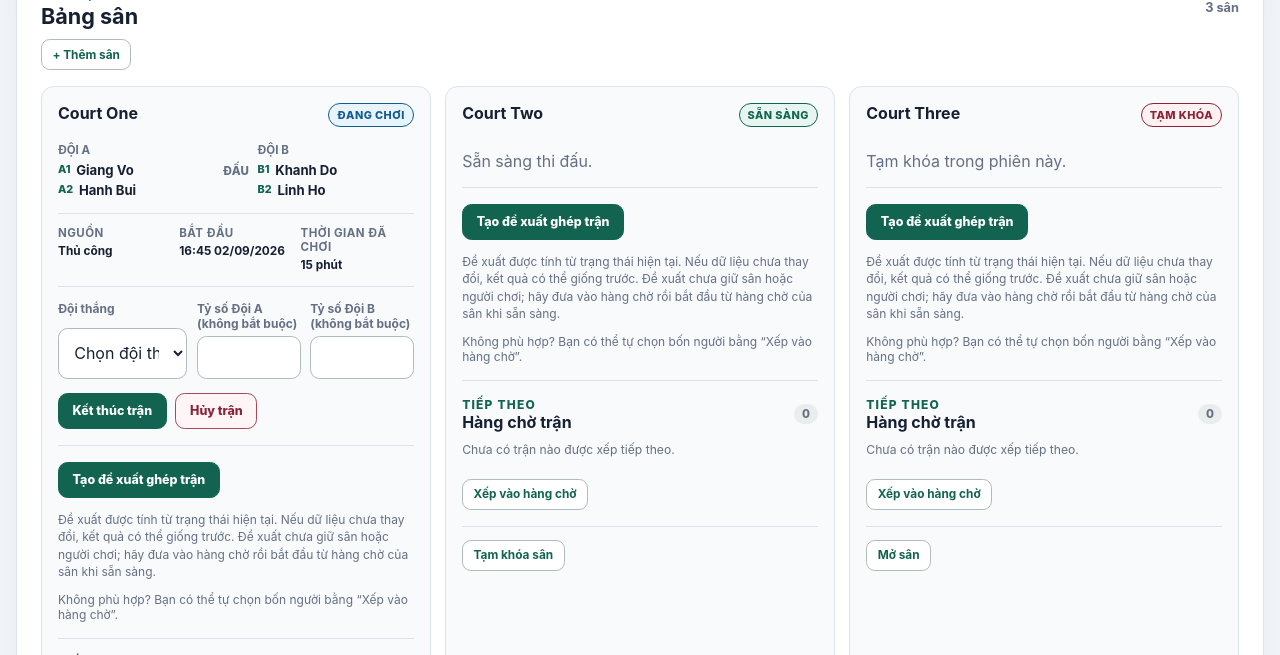
Complete Match result form › rejects non-integer score without a POST
(page scrolled)
Select "Đội A" in the dropdown labelled "Đội thắng" at (123, 353), box [58,328,187,379]
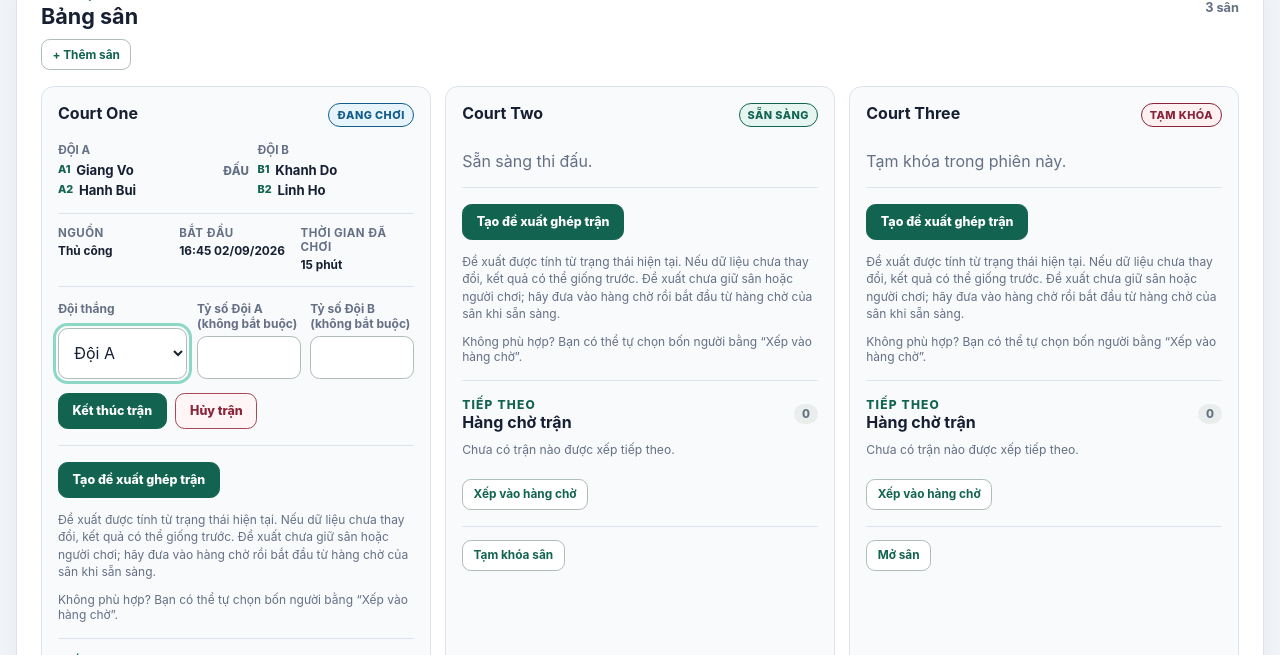
Type "21.5" into the number field labelled "Tỷ số Đội A (không bắt buộc)" at (249, 358), box [197,336,300,379]
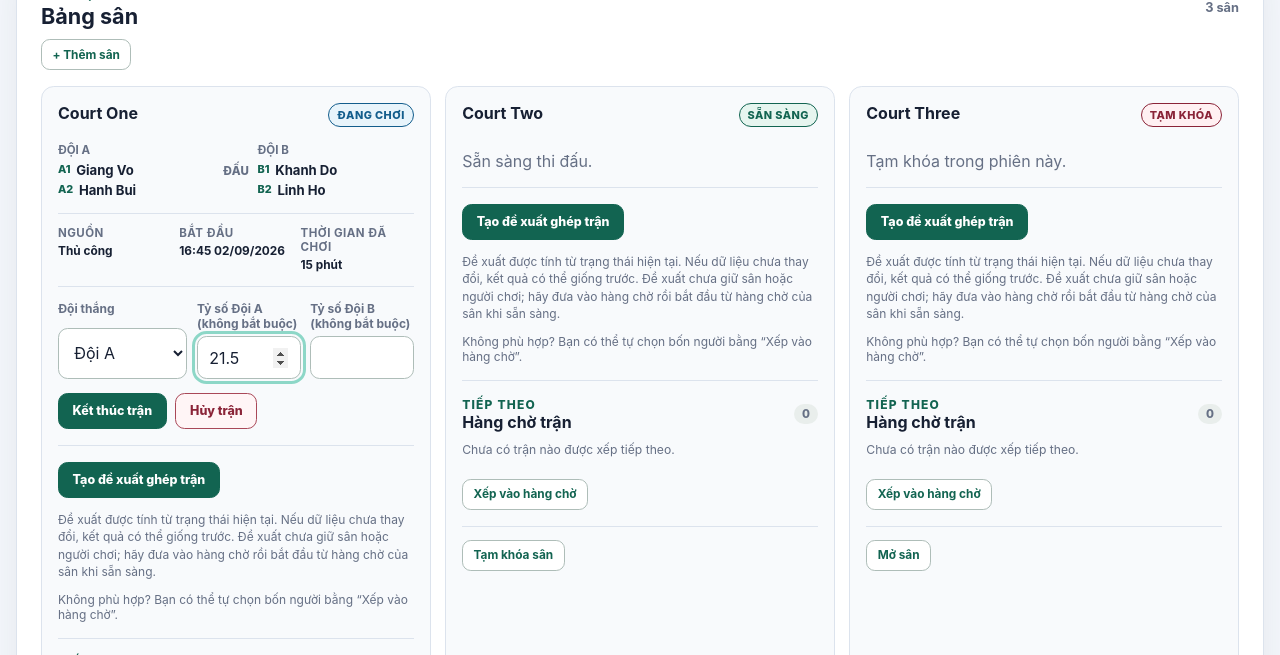
Type "17" into the number field labelled "Tỷ số Đội B (không bắt buộc)" at (362, 358), box [310,336,414,379]
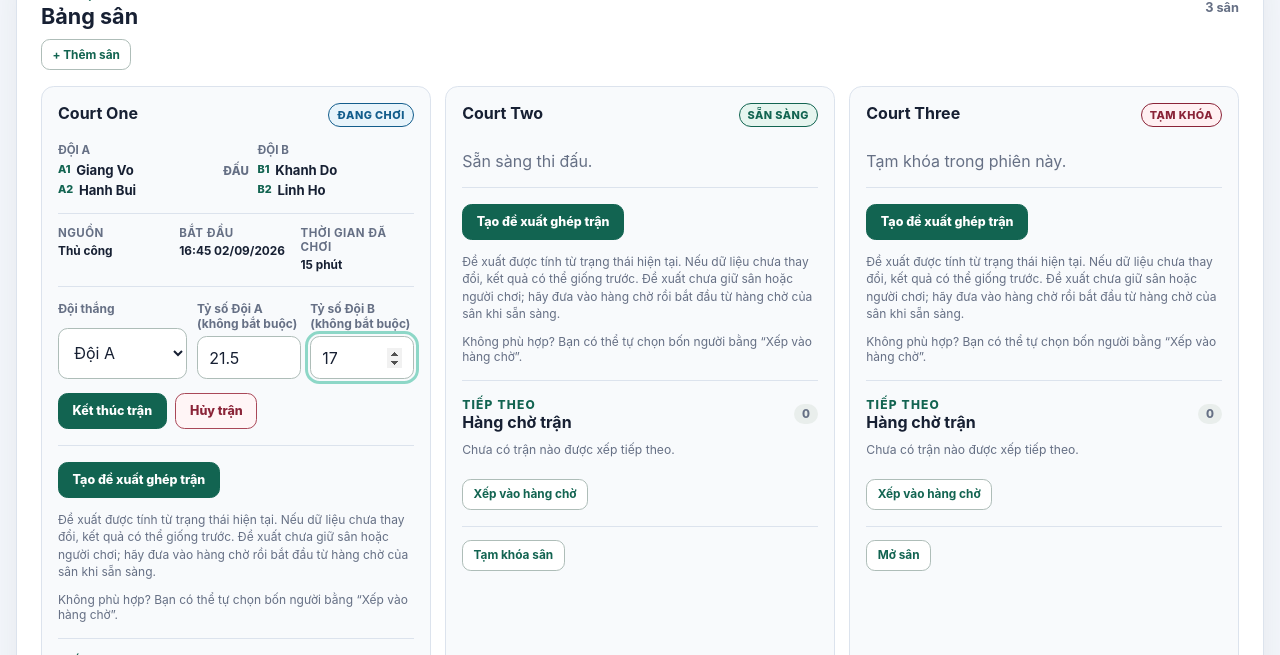
Click the button "Kết thúc trận" at (112, 411), box [58,393,167,429]
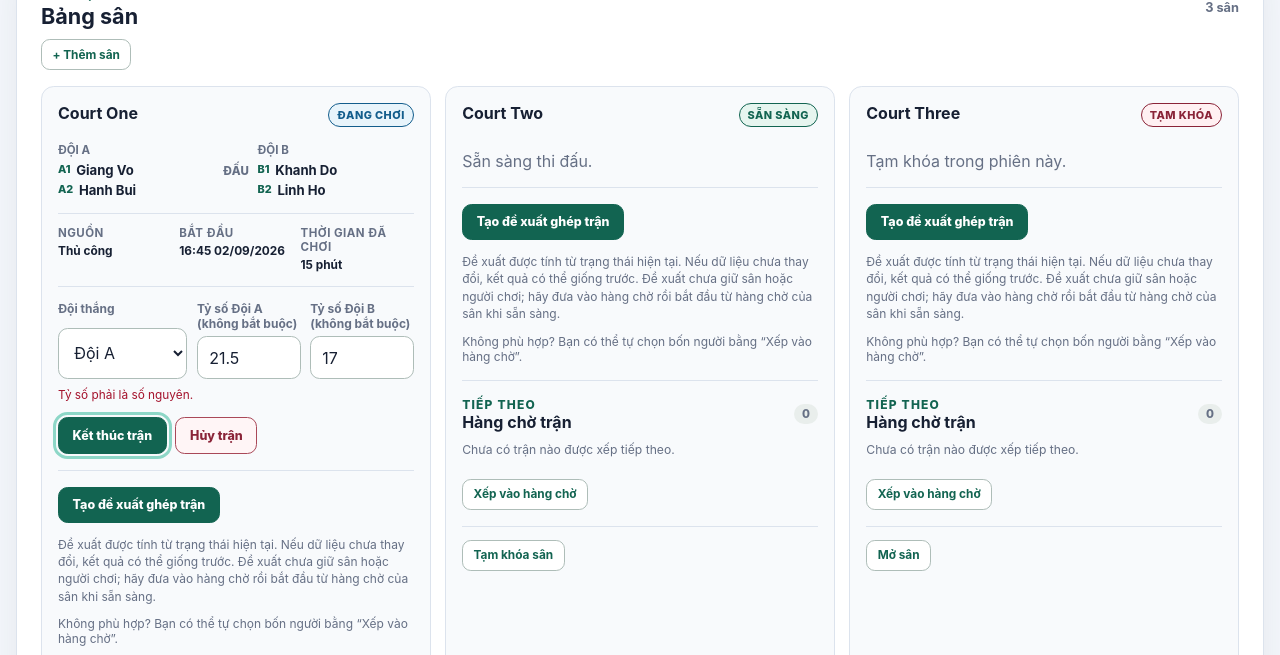
Result: the message reads "Tỷ số phải là số nguyên." at [58,388,193,402]
